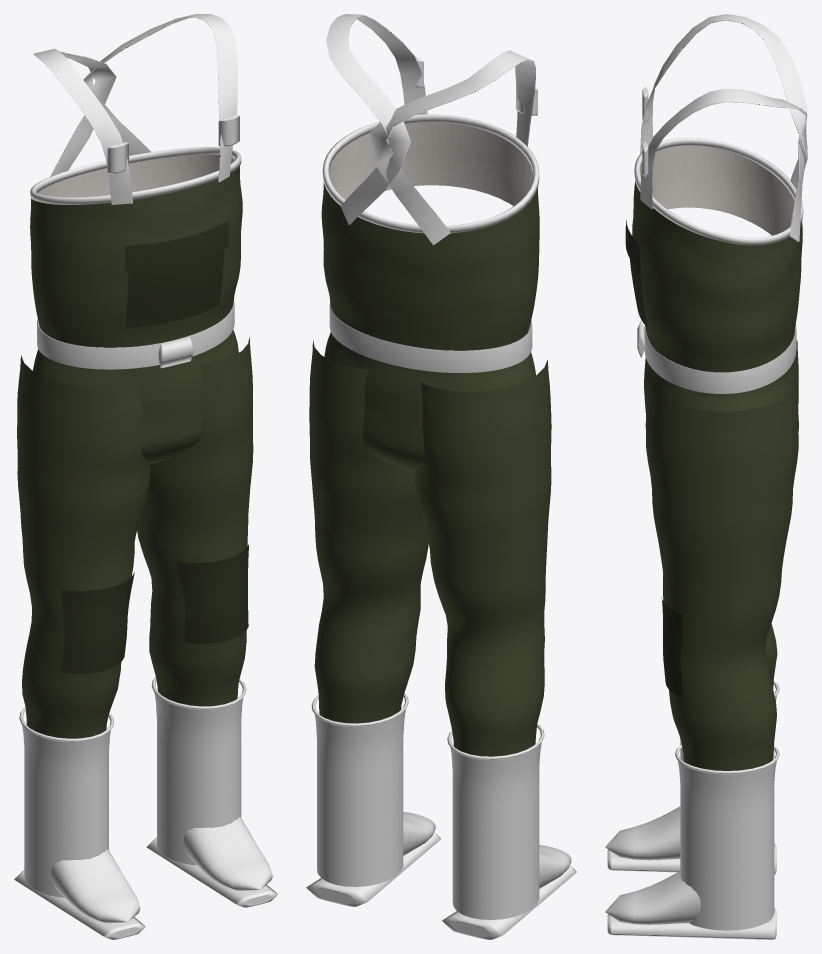
File: wear_waders.lod1.glb
3 renders of one model, left to right at view 1: azimuth 30°, elevation 25°; view 2: azimuth 150°, elevation 25°; view 3: azimuth 270°, elevation 25°, orthographic. The views are drawn at different scales.
Visible parts, largest first — view 1: Tool; view 2: Tool; view 3: Tool.
Part boxes in pixels (bbox=[...]): Tool: bbox=[14, 14, 277, 939]; Tool: bbox=[306, 14, 576, 939]; Tool: bbox=[605, 14, 807, 939].
Bounding box in the file's own units: 0.4037 × 1.51 × 0.3285.
7 materials, 7 textured.
